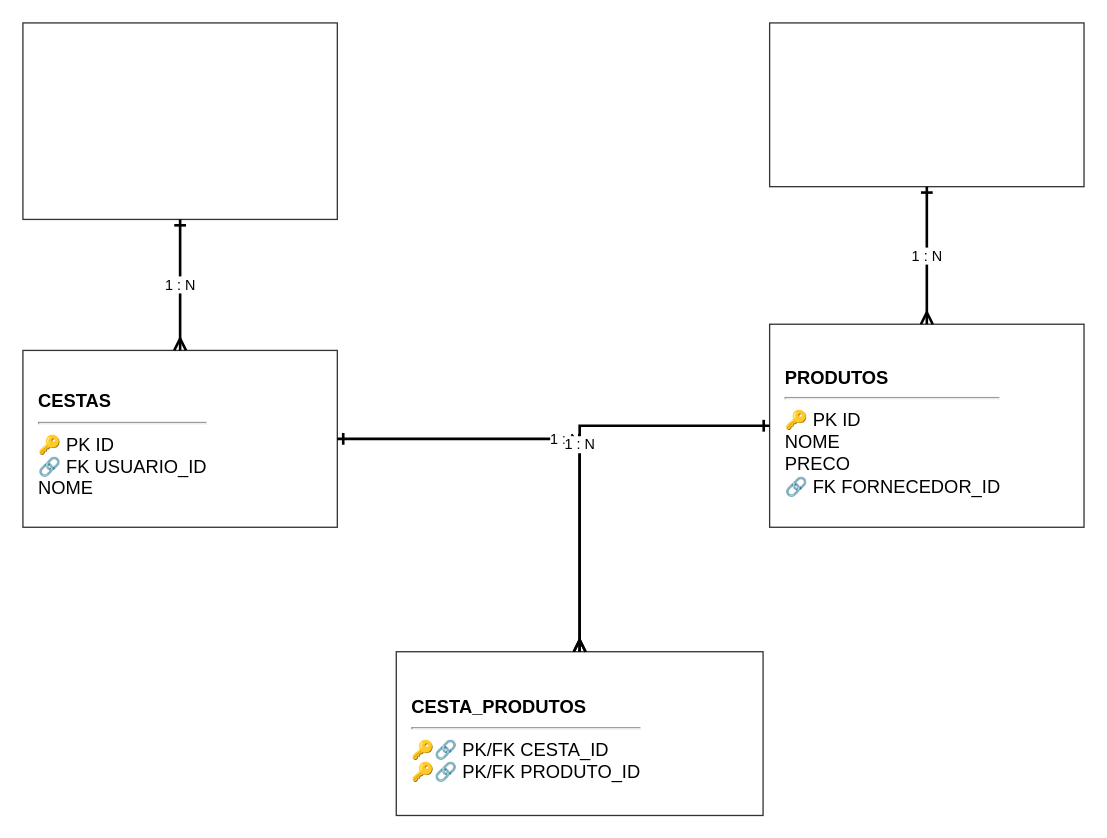
The diagram is 1107 pixels wide and 838 high, and some of its shapes have lost their labels. The box of each missing label's shape, as (x1, y1, x2, y2) in pixels:
FORNECEDORES 🔑 PK ID NOME CNPJ: (768, 22, 1084, 187)
USUÁRIOS 🔑 PK ID NOME E-MAIL SENHA: (22, 22, 337, 219)
